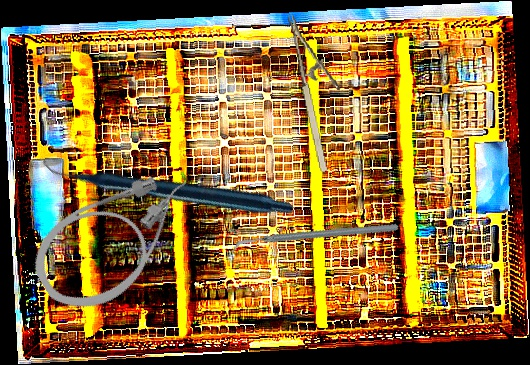Cannula: (19, 154, 218, 327)
Chopper: (229, 177, 400, 299)
Handpiece: (40, 57, 296, 313)
Needle Holder: (287, 6, 354, 174)
